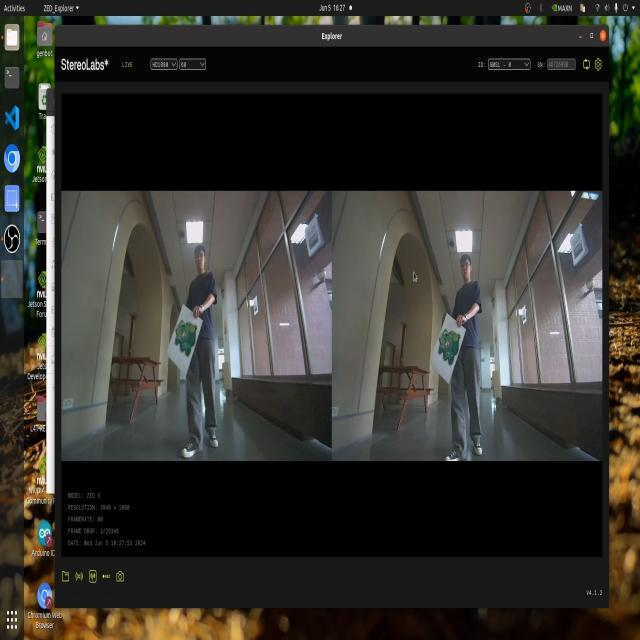green: (434, 325, 460, 371), (175, 325, 205, 360)
